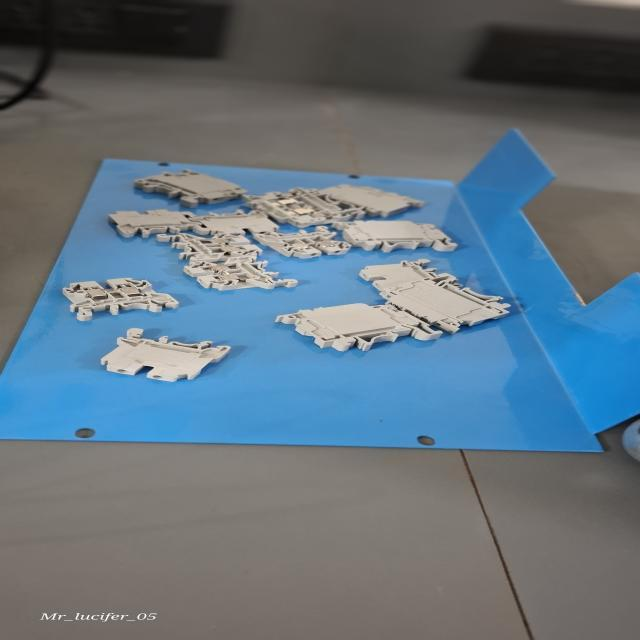Inverted: (90, 327, 238, 387), (359, 256, 463, 298), (102, 206, 208, 238)
Pass: (61, 276, 188, 324), (178, 254, 296, 292), (152, 229, 272, 265), (246, 227, 354, 261)
